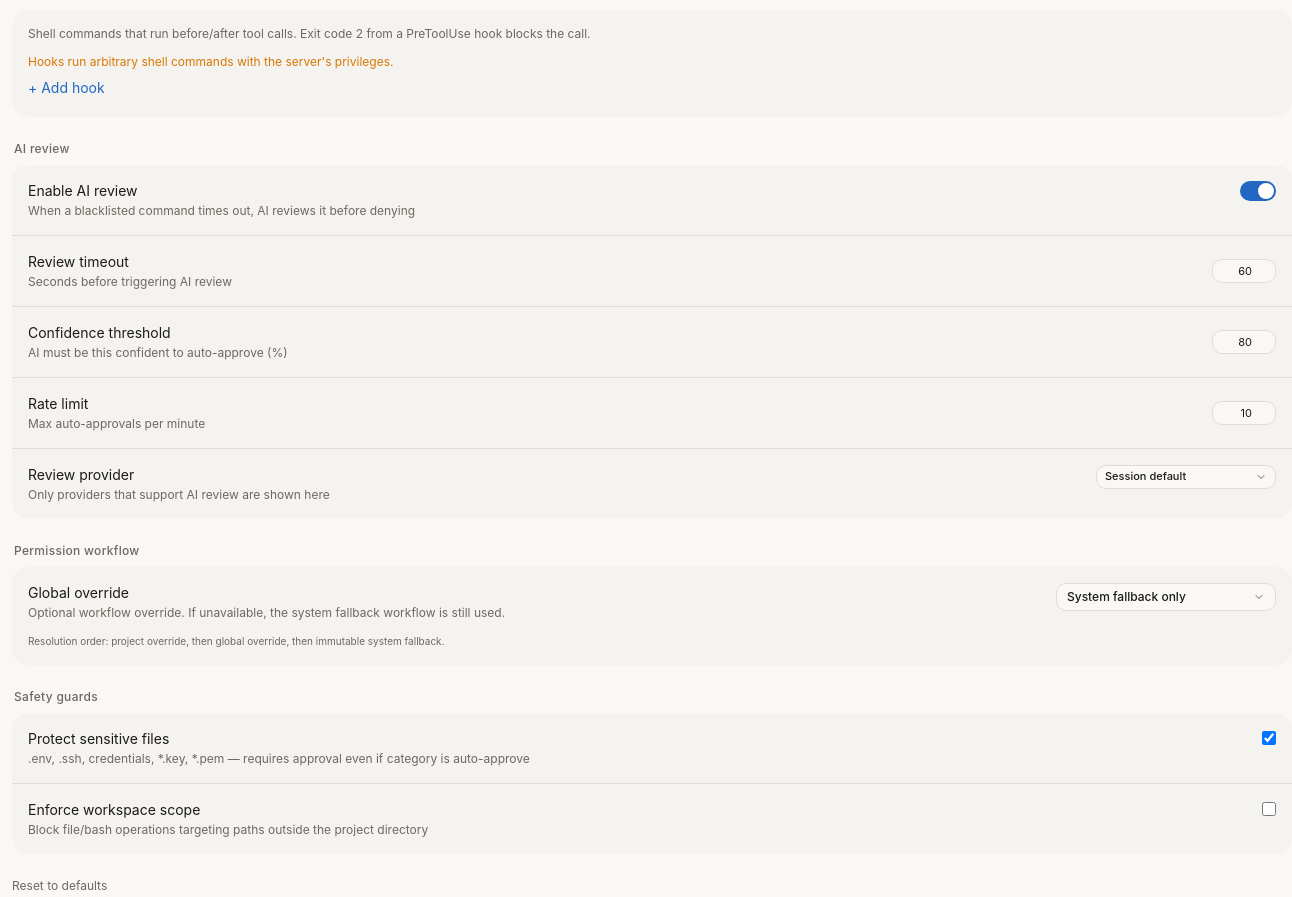
Test: PermissionSettings › only lists providers that support AI review
The image size is (1292, 897).
(page scrolled)
Expected: the text "Review provider" is shown, left=28, top=466, right=134, bottom=483
Click the button "Session default" at (1186, 477), box left=1096, top=465, right=1276, bottom=489
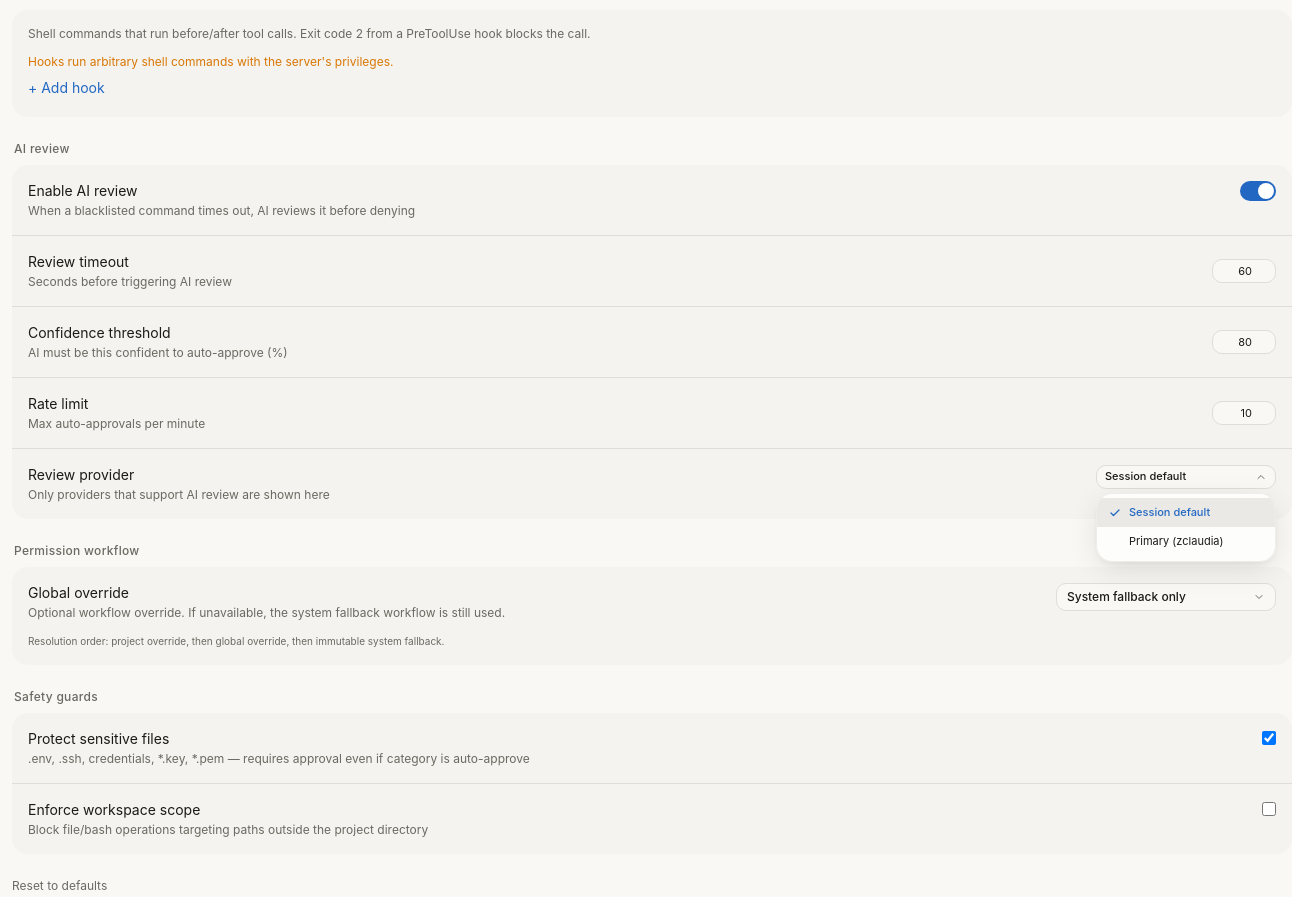
Now the option "Session default" is shown, box left=1097, top=498, right=1275, bottom=527
Now the option "Primary (zclaudia)" is shown, box left=1097, top=527, right=1275, bottom=557
